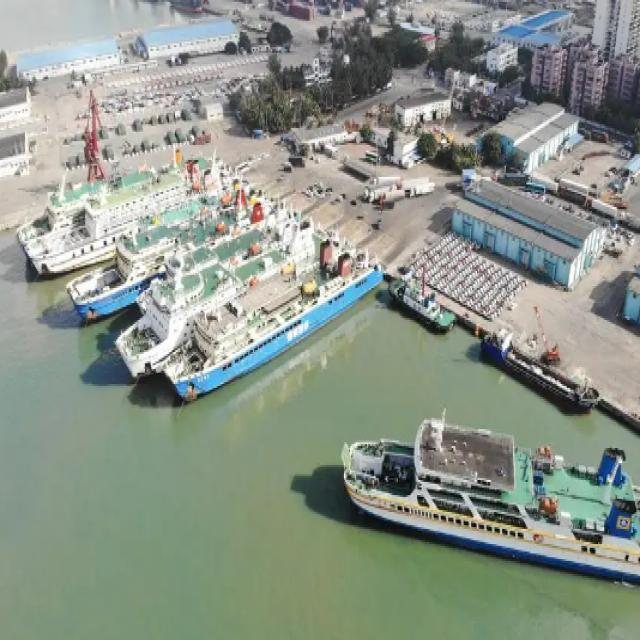fishing boat: (327, 375, 640, 574), (143, 262, 395, 393)
